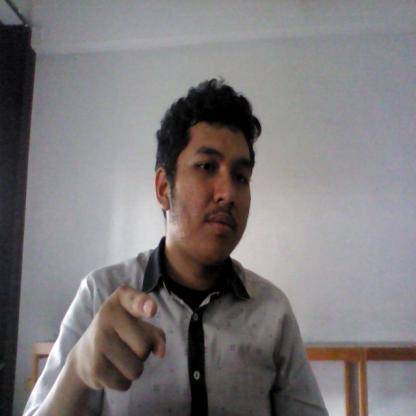Kamu: (56, 282, 174, 404)
